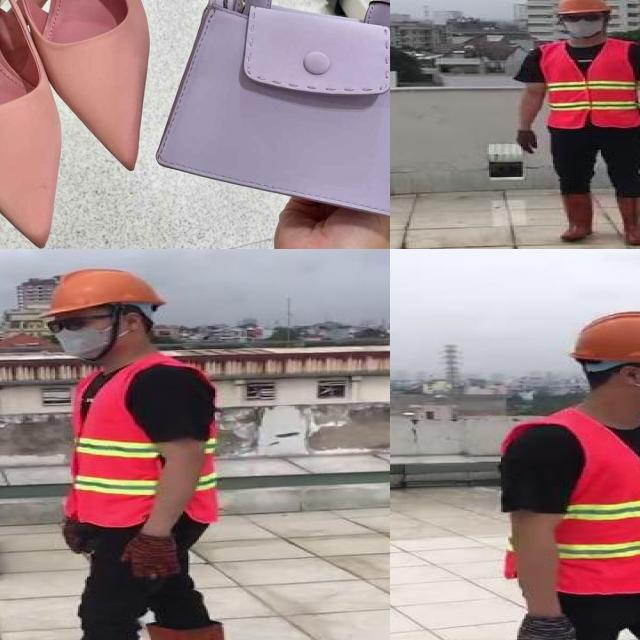Sandals: (0, 0, 173, 249)
boots: (556, 192, 596, 241), (613, 194, 640, 244)
face_mask: (42, 314, 114, 360), (560, 11, 605, 38)
glasses: (42, 314, 96, 338), (556, 12, 607, 26)
hand_glove: (123, 534, 181, 580), (513, 613, 577, 640), (58, 525, 98, 555), (514, 127, 540, 157)
head_helmet: (46, 268, 164, 316), (569, 306, 640, 370), (552, 0, 606, 15)
person: (0, 267, 229, 640), (481, 300, 640, 640), (503, 0, 640, 248)
vest: (495, 413, 640, 595), (66, 358, 222, 525), (540, 43, 640, 130)
